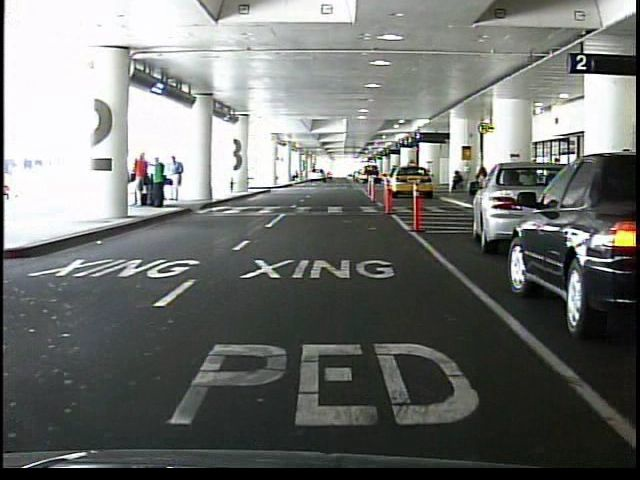person: (151, 156, 167, 209), (135, 151, 149, 207), (170, 156, 185, 203), (476, 163, 490, 195), (449, 171, 464, 195)
